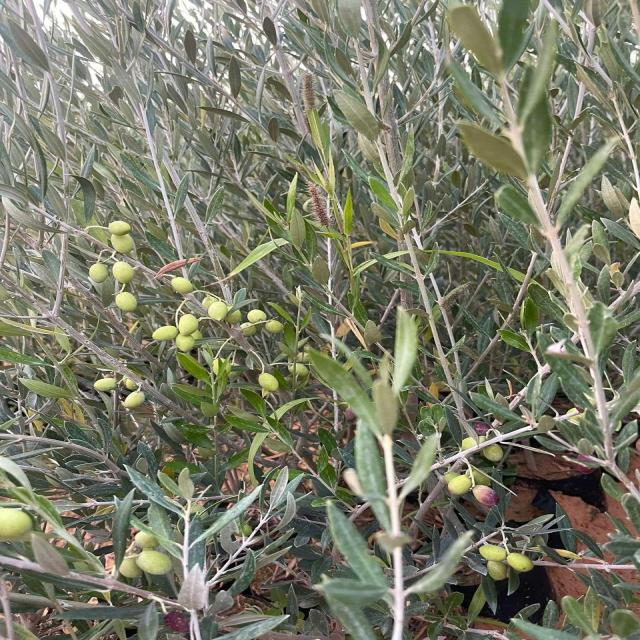Healthy: (119, 530, 171, 577), (445, 468, 500, 510), (479, 544, 533, 580), (153, 314, 200, 352), (202, 295, 241, 324), (240, 310, 283, 336), (112, 262, 135, 284), (110, 234, 135, 254), (171, 276, 195, 296), (123, 390, 147, 410), (115, 291, 137, 312), (93, 376, 121, 392), (89, 262, 109, 284), (258, 372, 279, 390), (483, 444, 503, 462), (109, 221, 131, 236)
